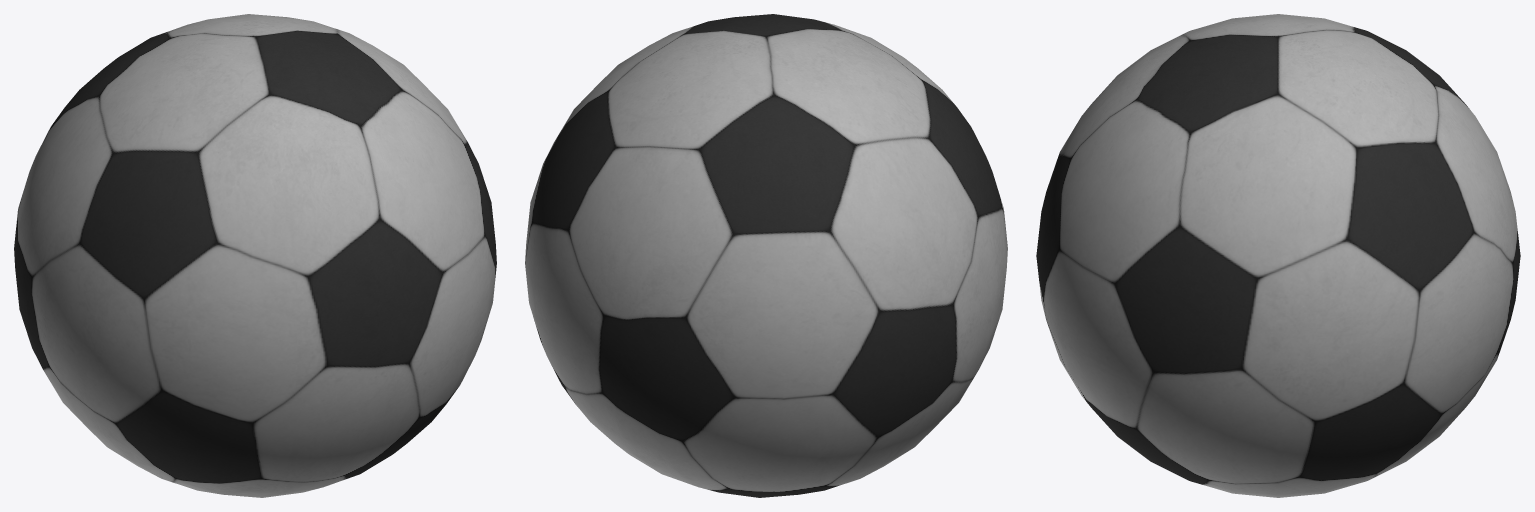
The model's file is soccer_ball.glb.
3 views of the same model, side by side, from view 1: azimuth 30°, elevation 25°; view 2: azimuth 150°, elevation 25°; view 3: azimuth 270°, elevation 25° (orthographic).
Visible parts, largest first — view 1: Soccer Ball_0; view 2: Soccer Ball_0; view 3: Soccer Ball_0.
Part boxes in pixels (left/top/right/bottom): Soccer Ball_0: left=14, top=14, right=496, bottom=497; Soccer Ball_0: left=525, top=14, right=1007, bottom=497; Soccer Ball_0: left=1036, top=14, right=1520, bottom=497.
Size of the model in its own units: 0.2298 by 0.2298 by 0.2298.
1 material, 1 textured.
